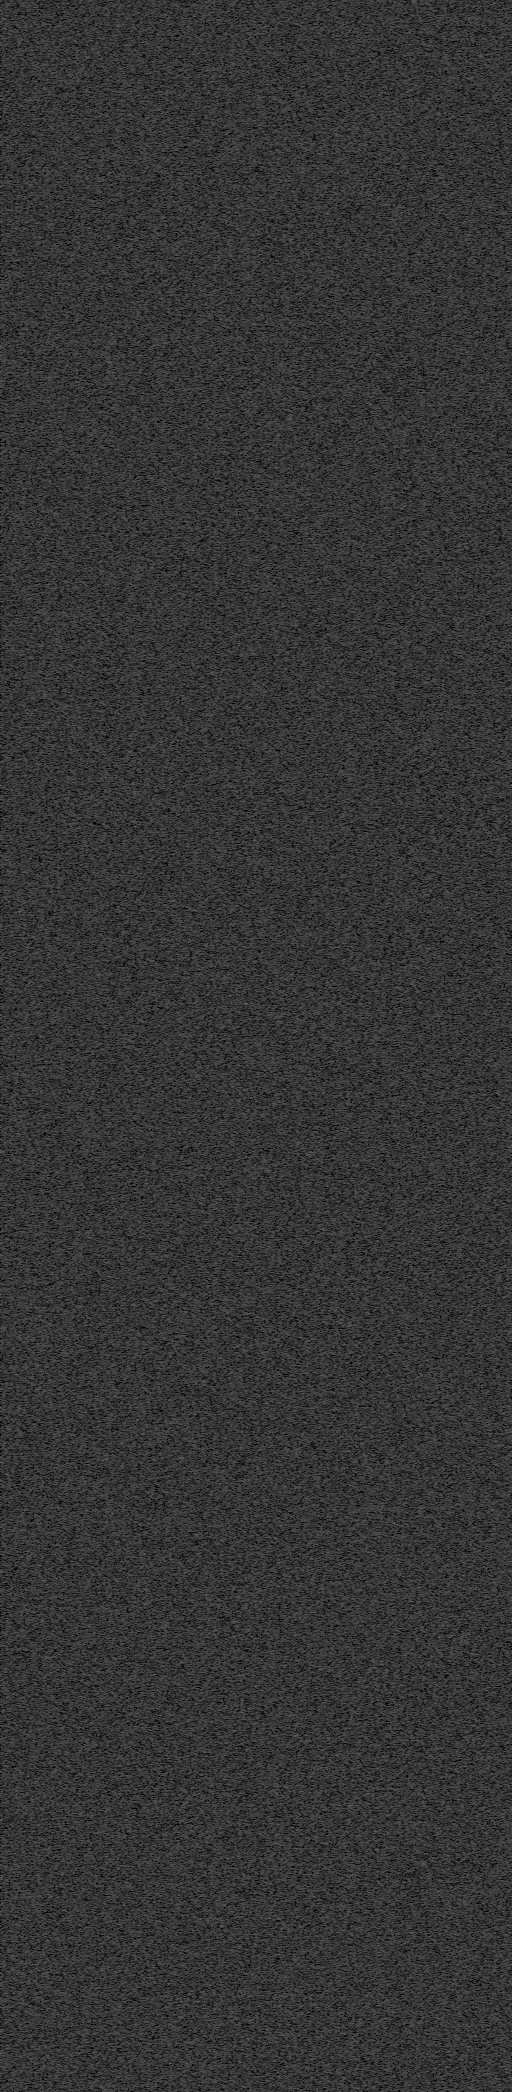wv_am: (471, 0, 477, 2091), (451, 0, 456, 1581), (451, 1585, 456, 2091)
wv_cw: (340, 0, 345, 2091), (441, 0, 445, 2091)
wv_lsb: (460, 1158, 467, 1638), (447, 751, 453, 1213), (447, 310, 453, 750), (447, 1263, 453, 1656), (447, 1749, 453, 2091), (461, 570, 467, 831), (460, 8, 467, 208), (281, 456, 285, 684), (447, 153, 453, 290), (447, 43, 453, 152), (461, 209, 467, 306), (461, 1774, 467, 1868), (448, 1662, 453, 1748), (461, 1067, 467, 1149), (461, 1869, 467, 1943), (461, 881, 467, 949), (461, 1001, 467, 1066), (281, 1324, 285, 1408), (461, 323, 467, 386), (447, 1214, 453, 1261), (281, 1412, 285, 1486), (461, 1640, 467, 1694), (461, 386, 467, 440), (461, 447, 467, 494), (461, 2007, 467, 2052), (461, 957, 467, 999), (461, 841, 467, 881), (461, 494, 467, 532), (461, 2053, 467, 2091), (283, 1644, 285, 1708), (281, 119, 285, 156), (461, 1694, 465, 1730), (461, 546, 467, 568), (447, 5, 453, 23), (461, 1983, 467, 2001), (461, 1963, 467, 1981), (448, 291, 453, 310), (281, 1488, 285, 1512), (461, 1947, 467, 1963), (461, 1754, 467, 1770), (448, 24, 453, 40), (283, 716, 285, 747), (283, 424, 285, 455), (283, 334, 285, 364), (283, 1712, 285, 1740), (283, 684, 285, 712), (283, 290, 285, 316), (281, 1915, 285, 1932), (283, 780, 285, 805), (283, 1750, 285, 1772), (283, 1577, 285, 1598), (461, 311, 467, 322), (283, 1786, 285, 1806), (283, 1621, 285, 1640), (283, 1545, 285, 1564), (283, 847, 285, 866), (283, 1883, 285, 1901), (283, 1851, 285, 1869), (283, 1818, 285, 1837), (461, 1730, 465, 1742), (461, 532, 465, 544), (283, 825, 285, 842), (283, 759, 285, 776), (283, 248, 285, 266), (461, 1744, 465, 1754), (281, 1528, 285, 1538), (283, 157, 285, 173), (283, 886, 285, 901), (283, 398, 285, 412), (283, 366, 285, 380), (283, 318, 285, 332), (283, 1512, 285, 1524), (283, 1935, 285, 1947), (461, 1151, 467, 1157), (283, 386, 285, 396), (461, 950, 465, 957), (461, 833, 465, 839), (283, 1947, 285, 1956), (283, 414, 285, 423), (283, 280, 285, 290), (283, 1980, 285, 1988), (283, 1612, 285, 1620), (461, 442, 467, 446), (283, 966, 285, 974), (283, 216, 285, 224), (283, 201, 285, 209), (448, 1657, 453, 1661), (283, 1604, 285, 1610), (283, 1564, 285, 1570), (283, 1302, 285, 1309), (283, 1806, 285, 1813), (461, 306, 465, 310), (283, 1774, 285, 1780), (283, 1159, 285, 1165), (283, 958, 285, 963), (283, 946, 285, 951), (283, 875, 285, 881), (283, 209, 285, 215), (283, 1961, 285, 1965), (283, 1744, 285, 1748), (283, 1572, 285, 1576), (283, 1291, 285, 1295), (283, 1259, 285, 1263), (283, 989, 285, 993), (283, 934, 285, 938), (283, 754, 285, 758), (283, 382, 285, 386), (283, 275, 285, 279), (283, 241, 285, 245), (283, 237, 285, 241), (283, 173, 285, 177), (283, 1957, 285, 1960), (283, 1062, 285, 1065), (283, 998, 285, 1001), (283, 902, 285, 905), (283, 750, 285, 752)
wv_usb: (477, 1238, 483, 1508), (477, 1836, 483, 2091), (477, 394, 483, 615), (477, 736, 483, 881), (477, 1509, 483, 1652), (477, 270, 483, 392), (477, 1674, 483, 1774), (477, 616, 483, 710), (477, 196, 483, 270), (483, 249, 487, 334), (477, 1776, 483, 1835), (477, 893, 483, 947), (483, 636, 487, 704), (483, 403, 487, 463), (477, 962, 483, 1005), (477, 1046, 483, 1074), (483, 579, 487, 616), (477, 711, 483, 736), (483, 1875, 487, 1907), (483, 909, 487, 941), (483, 1932, 488, 1955), (483, 2035, 487, 2064), (483, 778, 487, 807), (477, 1653, 483, 1674), (483, 809, 487, 837), (483, 1981, 487, 2008), (483, 1955, 487, 1980), (477, 36, 483, 55), (483, 1908, 487, 1931), (483, 752, 487, 775), (477, 1079, 483, 1095), (483, 945, 487, 966), (483, 722, 487, 743), (483, 845, 487, 865), (477, 1222, 483, 1237), (483, 370, 487, 388), (477, 1031, 483, 1045), (477, 949, 483, 961), (477, 882, 483, 893), (483, 2021, 487, 2035), (483, 1050, 487, 1063), (483, 865, 487, 878), (477, 1021, 483, 1030), (477, 1110, 483, 1119), (479, 1097, 483, 1109), (479, 20, 483, 32), (479, 1123, 483, 1135), (477, 1013, 483, 1021), (477, 1005, 483, 1013), (479, 101, 483, 112), (483, 2077, 487, 2088), (483, 2009, 487, 2020), (483, 989, 487, 999), (483, 358, 487, 368), (479, 1135, 483, 1146), (483, 2065, 487, 2075), (483, 1083, 487, 1093), (479, 1189, 483, 1198), (479, 1147, 483, 1157), (477, 80, 483, 87), (483, 1416, 487, 1424), (484, 1110, 487, 1122), (483, 1015, 487, 1023), (483, 881, 487, 889), (477, 1181, 483, 1186), (483, 1038, 487, 1045), (483, 1001, 487, 1007), (483, 978, 487, 985), (483, 895, 487, 902), (483, 838, 487, 845), (483, 744, 487, 751), (483, 714, 487, 720), (479, 189, 483, 195), (479, 184, 483, 189), (479, 167, 483, 172), (479, 124, 483, 129), (479, 56, 483, 61), (479, 12, 483, 17), (483, 1388, 487, 1393), (484, 1071, 487, 1079), (483, 1063, 487, 1069), (483, 967, 487, 973), (483, 620, 487, 626), (477, 1163, 483, 1167), (484, 1361, 487, 1368), (479, 129, 483, 133), (483, 708, 487, 712), (483, 244, 487, 248), (479, 1211, 483, 1215), (479, 1158, 483, 1162), (477, 1075, 483, 1078), (484, 1432, 487, 1437), (479, 157, 483, 160), (479, 139, 483, 141), (479, 88, 483, 91), (479, 69, 483, 72), (483, 1025, 487, 1027), (483, 627, 487, 630), (483, 394, 487, 396), (483, 390, 487, 392), (483, 354, 487, 356), (484, 1381, 487, 1384), (484, 1191, 487, 1194), (484, 1175, 487, 1178), (484, 1159, 487, 1162), (484, 1147, 487, 1150), (484, 1127, 487, 1130), (484, 1046, 487, 1049), (484, 399, 487, 402)
